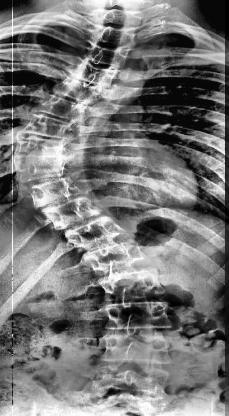Vertebrae: (101, 298, 175, 334), (97, 366, 170, 398), (86, 240, 148, 274), (45, 194, 101, 230), (103, 336, 170, 366), (64, 217, 126, 249), (99, 271, 165, 299), (16, 134, 72, 158), (24, 182, 72, 210), (13, 158, 72, 178), (95, 23, 135, 48), (23, 119, 73, 138), (71, 61, 109, 83), (58, 78, 96, 100), (84, 46, 128, 64), (41, 100, 77, 118)
